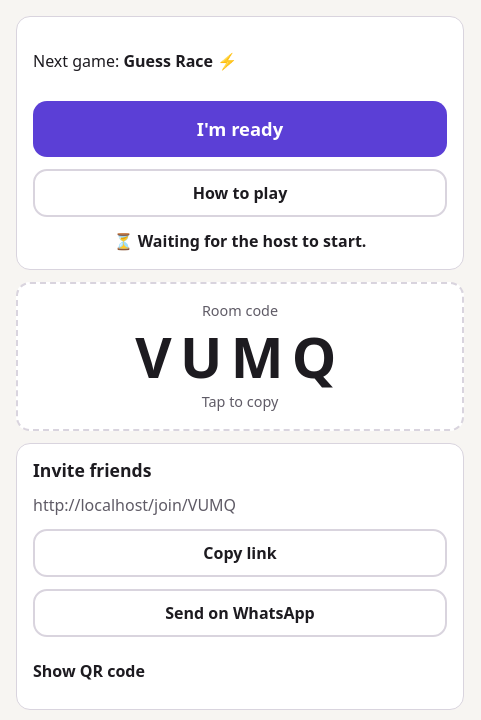
Test case: Ready button (players) › a failed request shows an error toast
Click the button "I'm ready": (240, 129) [33, 101, 447, 157]
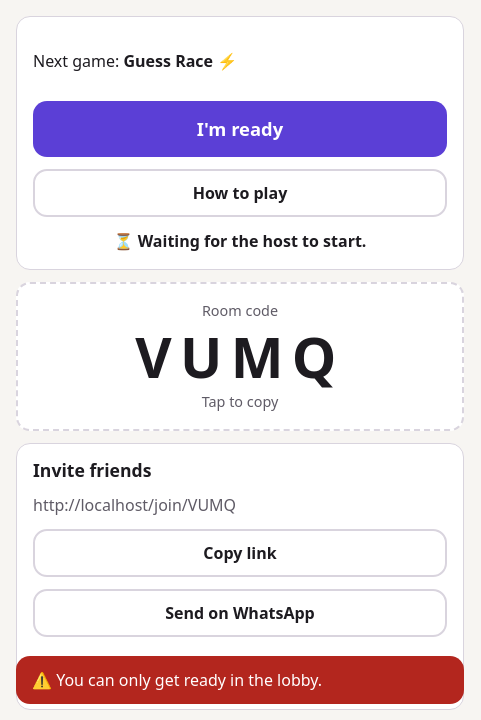
Check: the message shows "You can only get ready in the lobby.", box [56, 669, 322, 691]
